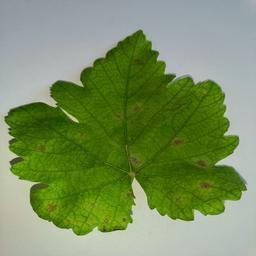Powdery-Mildew: (76, 189, 122, 229), (129, 101, 145, 118), (169, 132, 185, 149), (37, 138, 53, 155), (198, 178, 214, 195), (44, 198, 60, 215), (193, 157, 209, 173)
